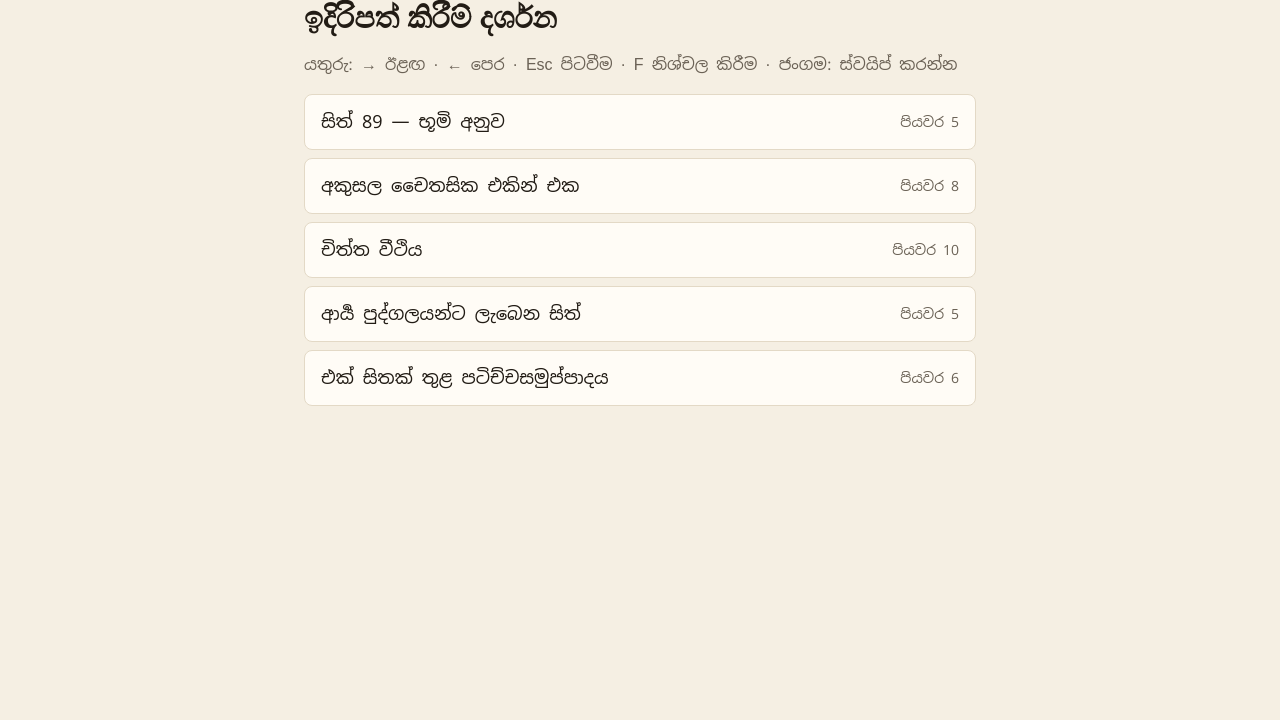
Test: PresentView › steps with a touch swipe
The width and height of the screenshot is (1280, 720).
Click the button "අකුසල චෛතසික එකින් එක පියවර 8" at (450, 185), box [304,158,976,214]
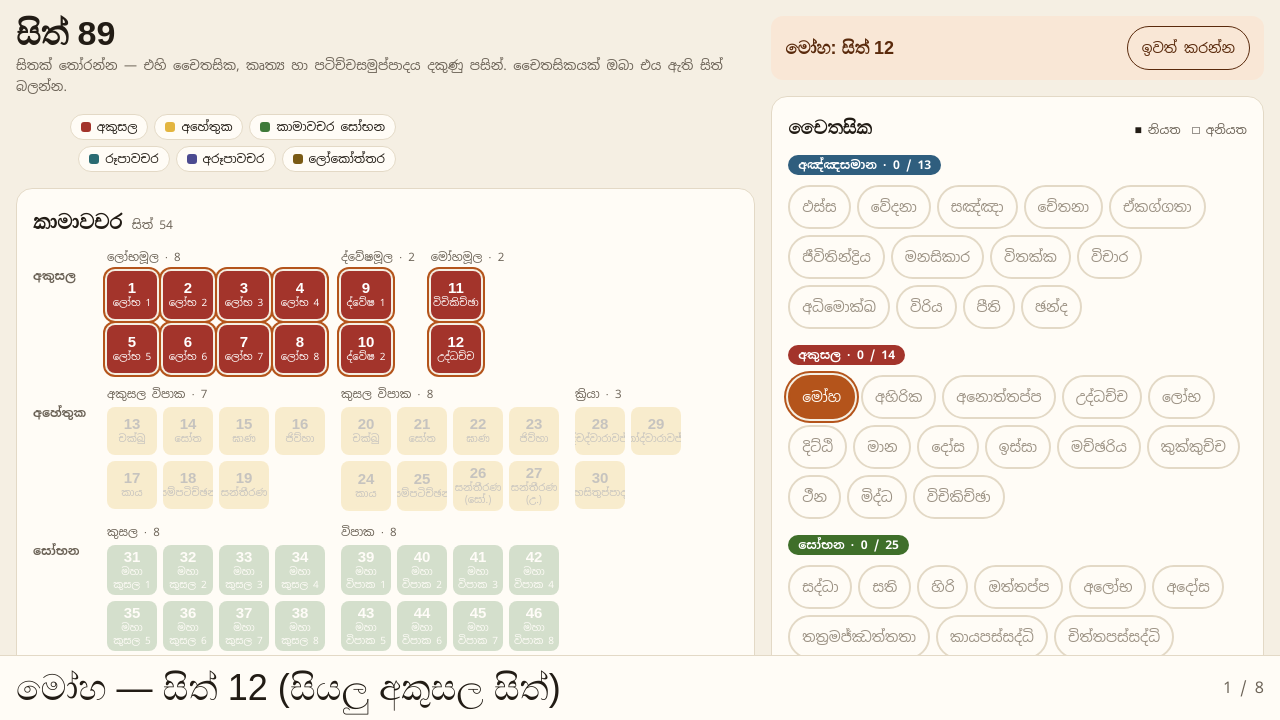
Press the mouse on the element with test id "presenter" at (640, 360), box [0,0,1279,719]
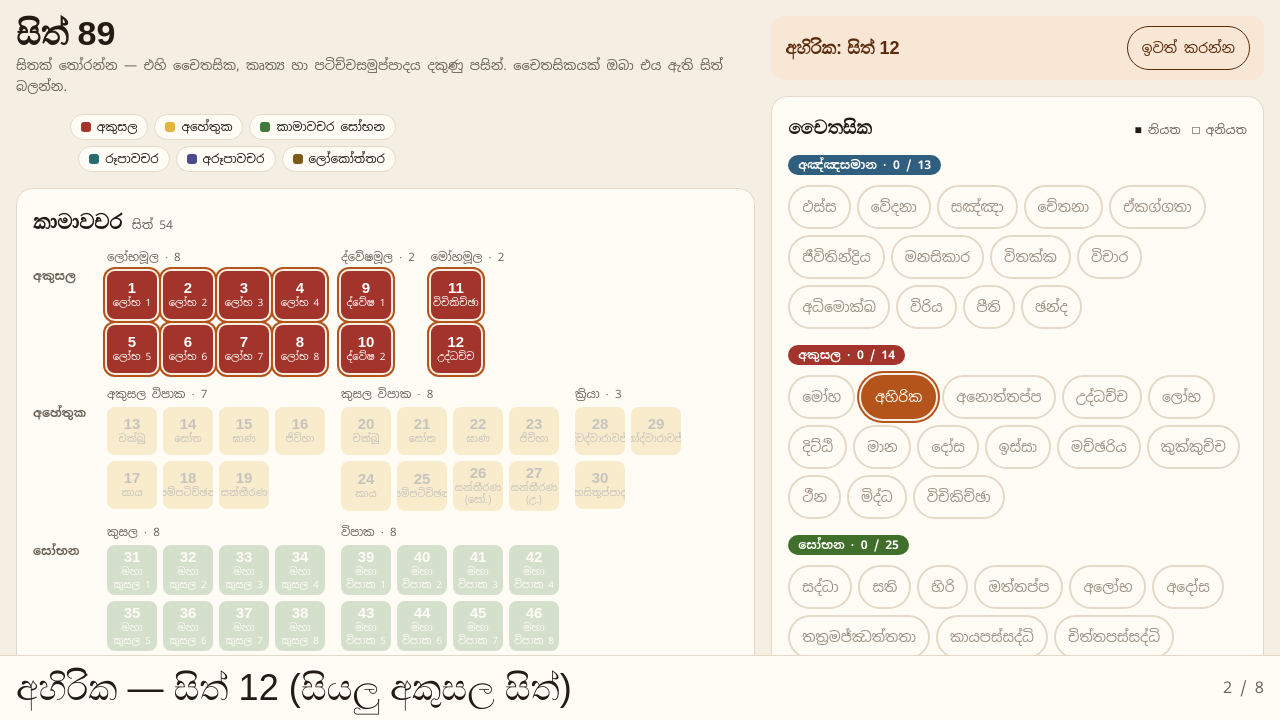
Check: the text "2 / 8" is shown, box [1223,675,1264,701]
